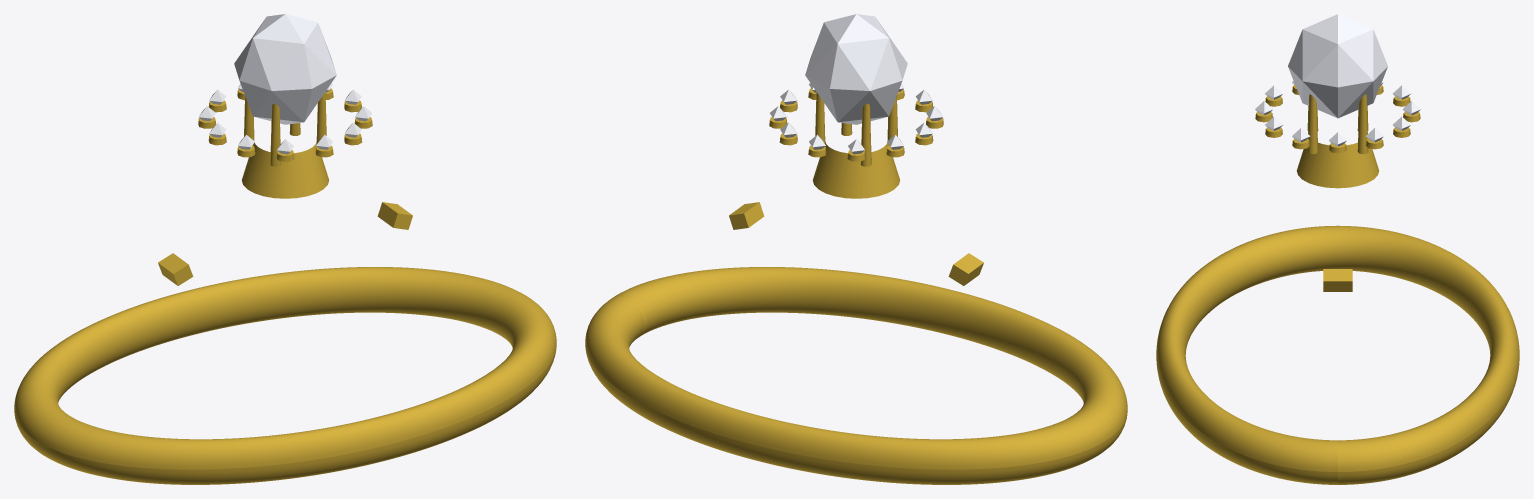
File: ring-halo-yellow.glb
3 renders of one model, left to right at view 1: azimuth 30°, elevation 25°; view 2: azimuth 150°, elevation 25°; view 3: azimuth 270°, elevation 25°, orthographic. The views are drawn at different scales.
Size of the model in its own units: 1.87 by 1.35 by 1.23.
